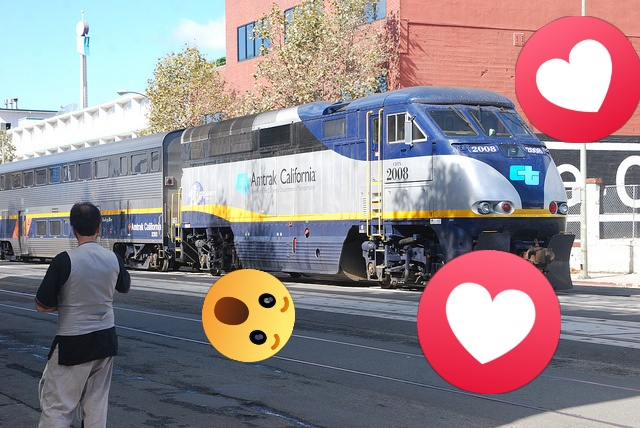love: (417, 250, 561, 394), (515, 16, 640, 143)
wow: (202, 269, 295, 362)
